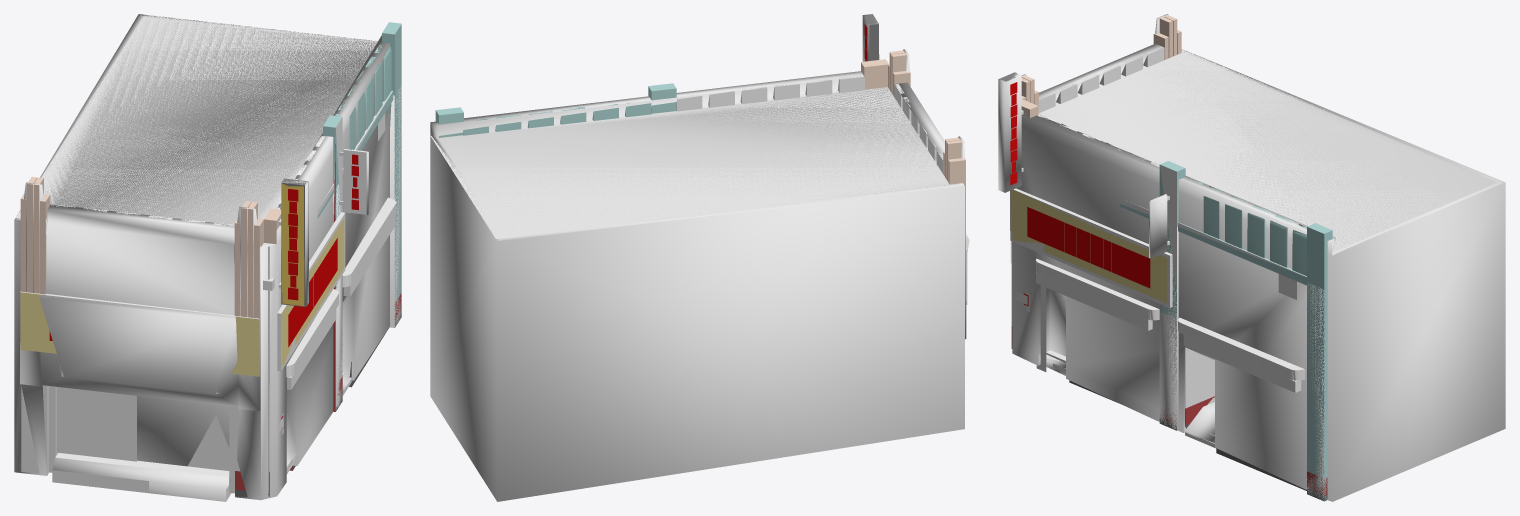
Rendered from s_bld_shops_001.dae.
3 views of the same model, side by side, from view 1: azimuth 30°, elevation 25°; view 2: azimuth 150°, elevation 25°; view 3: azimuth 270°, elevation 25° (orthographic). The views are drawn at different scales.
Parts seen in each view (by area): view 1: Colmesh_s_bld_shops_001-1, s_bld_shops_001_L400, s_bld_shops_001_L150, s_bld_shops_001_L79; view 2: Colmesh_s_bld_shops_001-1, s_bld_shops_001_L400, s_bld_shops_001_L150, s_bld_shops_001_L79; view 3: Colmesh_s_bld_shops_001-1, s_bld_shops_001_L400, s_bld_shops_001_L150, s_bld_shops_001_L79.
Boxes of the visible parts, x1=… form: Colmesh_s_bld_shops_001-1: x1=14, y1=14, x2=401, y2=501; s_bld_shops_001_L400: x1=16, y1=14, x2=401, y2=501; s_bld_shops_001_L150: x1=16, y1=15, x2=401, y2=497; s_bld_shops_001_L79: x1=20, y1=24, x2=401, y2=492; Colmesh_s_bld_shops_001-1: x1=430, y1=14, x2=969, y2=501; s_bld_shops_001_L400: x1=431, y1=14, x2=967, y2=304; s_bld_shops_001_L150: x1=431, y1=15, x2=967, y2=304; s_bld_shops_001_L79: x1=436, y1=15, x2=947, y2=180; Colmesh_s_bld_shops_001-1: x1=998, y1=14, x2=1505, y2=501; s_bld_shops_001_L400: x1=1003, y1=14, x2=1461, y2=501; s_bld_shops_001_L150: x1=999, y1=15, x2=1405, y2=500; s_bld_shops_001_L79: x1=1001, y1=22, x2=1327, y2=498.
Size of the model in its own units: 19.59 by 20.13 by 13.15.
